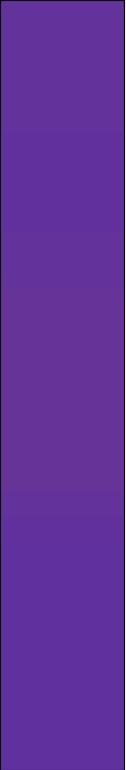safe: (10, 10, 112, 755)
